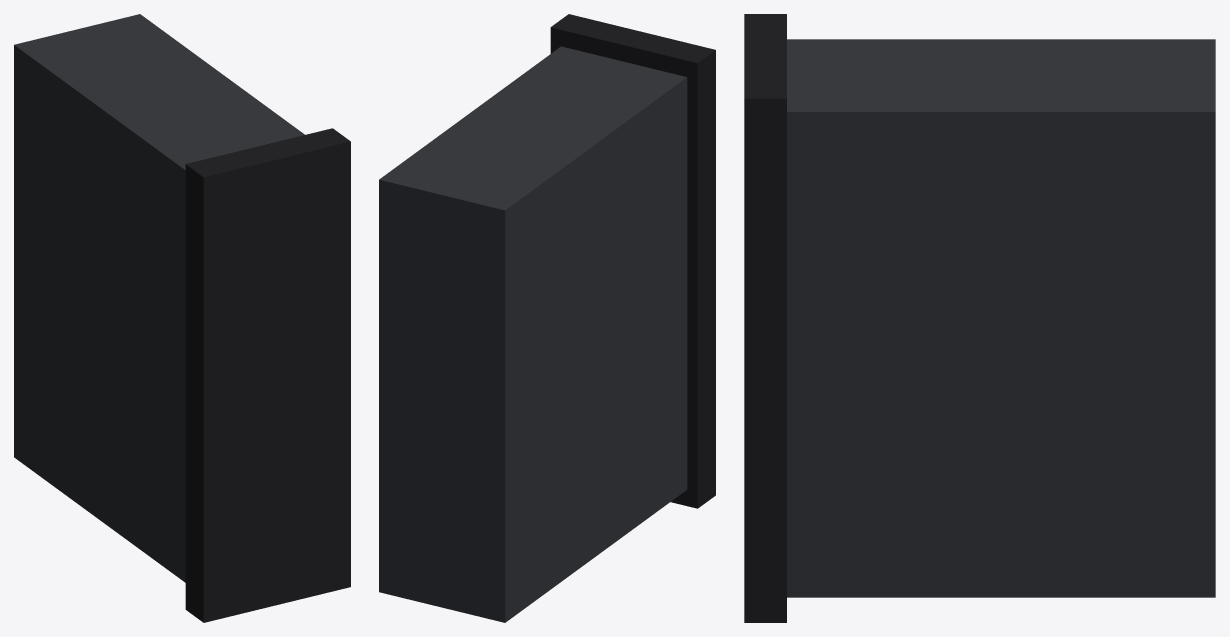
The model's file is SVD_Mag10.fbx.
The picture shows the model from 3 angles, left to right: view 1: azimuth 30°, elevation 25°; view 2: azimuth 150°, elevation 25°; view 3: azimuth 270°, elevation 25°; orthographic projection. The views are drawn at different scales.
Parts seen in each view (by area): view 1: prims; view 2: prims; view 3: prims.
Part boxes in pixels (box(x1,y1,x2,y2)): prims: box(14, 14, 350, 622); prims: box(379, 14, 715, 622); prims: box(744, 14, 1215, 622).
Size of the model in its own units: 0.0168 by 0.0486 by 0.0396.
